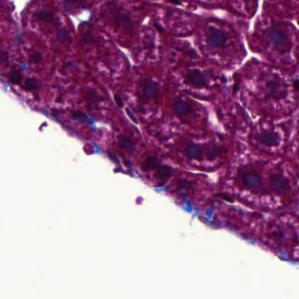inflammation: (172, 89, 221, 136)
